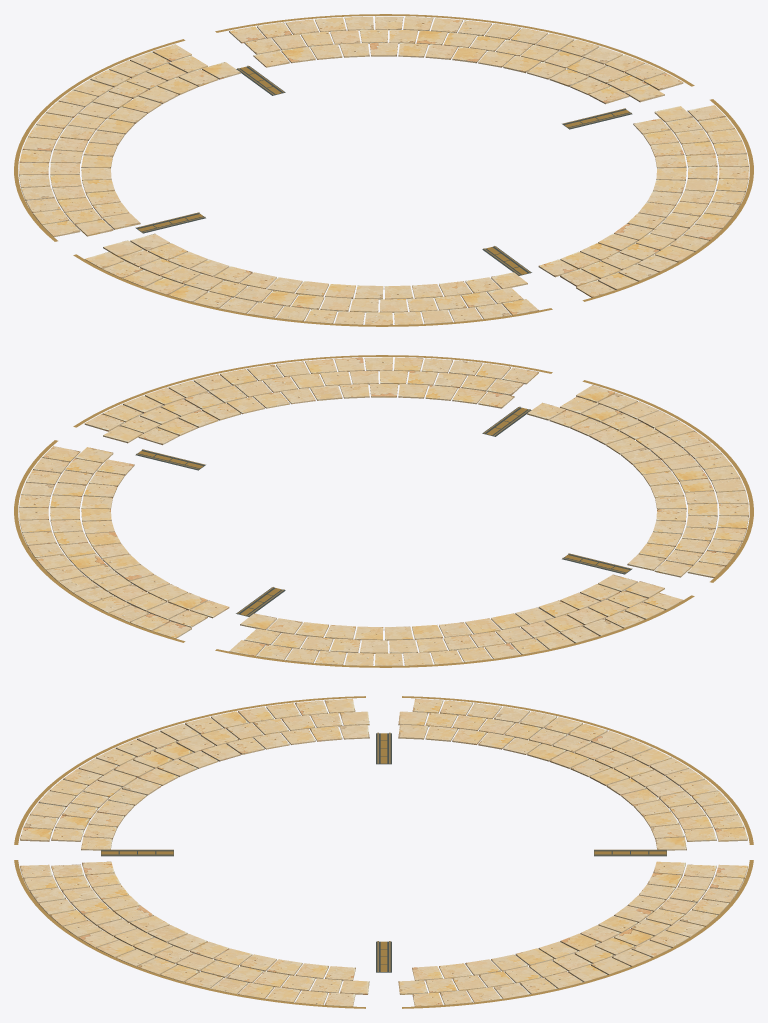
The picture shows the model from 3 angles, top to bottom: view 1: azimuth 30°, elevation 25°; view 2: azimuth 150°, elevation 25°; view 3: azimuth 270°, elevation 25°; orthographic projection.
Parts seen in each view (by area): view 1: seaside_stone, house_paint, grid_bed, conduit_glass_glass, grid_bronze; view 2: seaside_stone, house_paint, grid_bed, conduit_glass_glass, grid_bronze; view 3: seaside_stone, house_paint, grid_bed, conduit_glass_glass, grid_bronze.
Boxes of the visible parts, x1,y1,x2,y2 form: seaside_stone: (19,16,748,324); house_paint: (14,14,753,326); grid_bed: (135,66,632,275); conduit_glass_glass: (138,66,629,274); grid_bronze: (136,65,631,275); seaside_stone: (19,357,748,665); house_paint: (14,355,753,667); grid_bed: (135,407,632,616); conduit_glass_glass: (138,407,629,615); grid_bronze: (136,406,631,616); seaside_stone: (20,698,747,1006); house_paint: (14,696,753,1008); grid_bed: (101,733,666,972); conduit_glass_glass: (101,733,666,971); grid_bronze: (101,732,666,971).
Size of the model in its own units: 17.78 by 0.04 by 17.78.
Materials: 5 (2 with a texture image).
